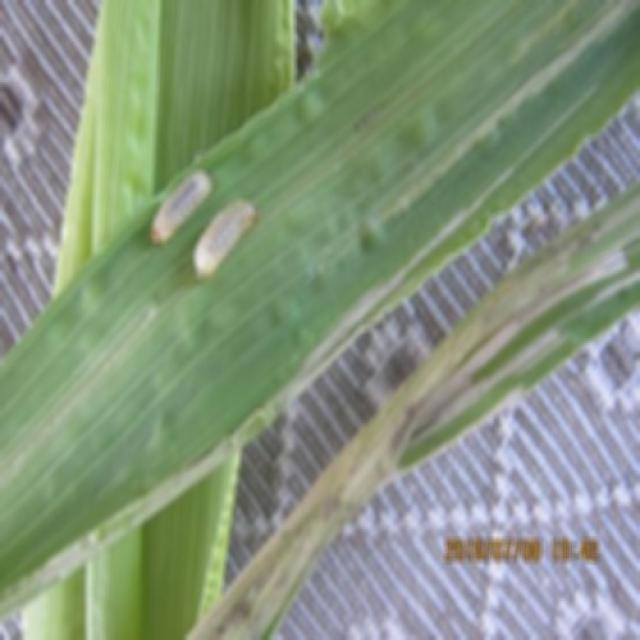army worm: (191, 197, 259, 284), (152, 165, 214, 243)
